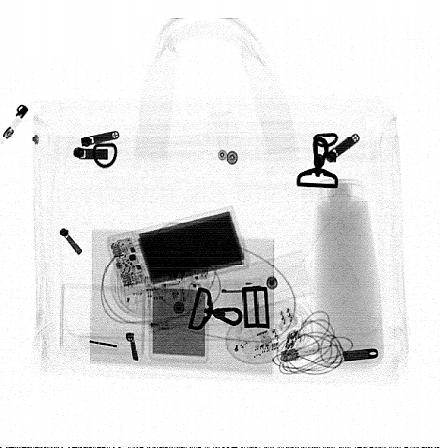Powerbank: (107, 204, 253, 296), (148, 262, 210, 363)
